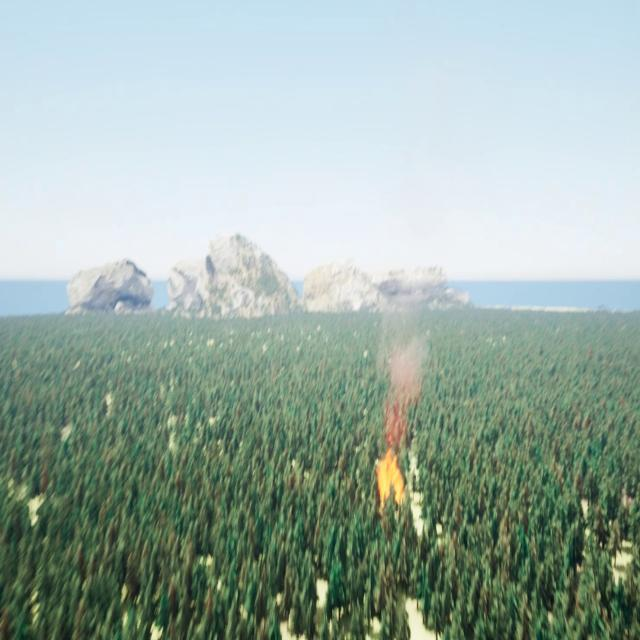fire: (376, 449, 406, 504)
smoke: (382, 333, 426, 448)
